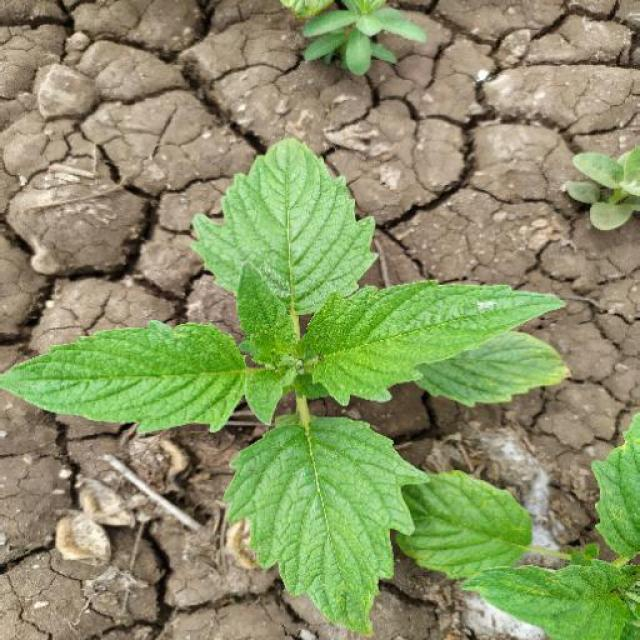crop: (19, 140, 575, 640)
